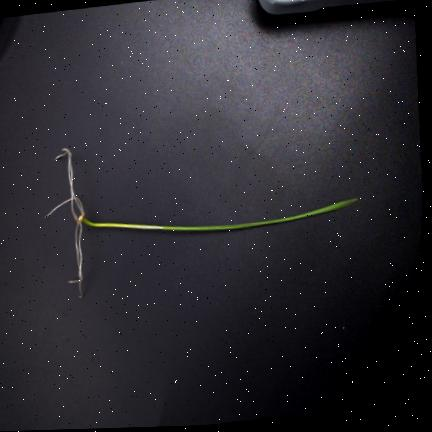leaf: (160, 197, 358, 230)
root1: (43, 197, 84, 218)
root2: (54, 150, 82, 214)
root3: (61, 148, 78, 222)
root4: (68, 224, 83, 283)
root5: (79, 222, 83, 298)
stem: (79, 215, 160, 230)
